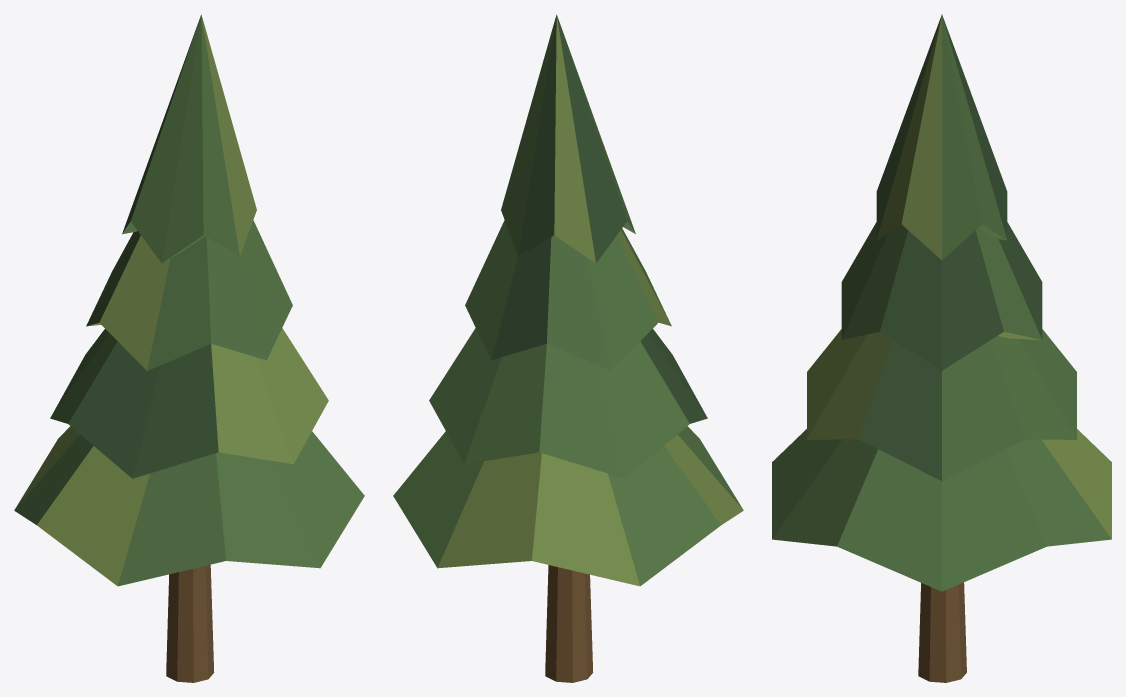
The model's file is BP_Pine_Young.fbx.
The picture shows the model from 3 angles, left to right: view 1: azimuth 30°, elevation 25°; view 2: azimuth 150°, elevation 25°; view 3: azimuth 270°, elevation 25°; orthographic projection.
Visible parts, largest first — view 1: BP_Pine_Young; view 2: BP_Pine_Young; view 3: BP_Pine_Young.
Part boxes in pixels (x1,y1,x2,y2): BP_Pine_Young: [14, 14, 364, 682]; BP_Pine_Young: [393, 14, 743, 682]; BP_Pine_Young: [772, 14, 1111, 682].
Bounding box in the file's own units: 116 × 238 × 110.
